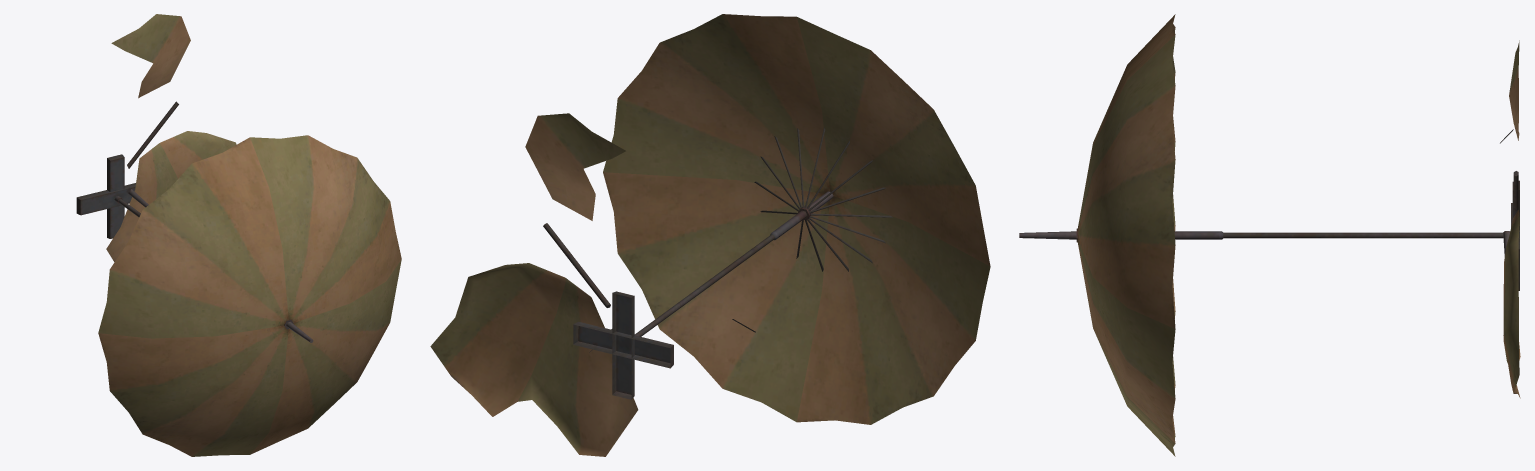
The model's file is hd_env052_TradeShelves_umbrella.glb.
3 views of the same model, side by side, from view 1: azimuth 30°, elevation 25°; view 2: azimuth 150°, elevation 25°; view 3: azimuth 270°, elevation 25° (orthographic). The views are drawn at different scales.
Parts seen in each view (by area): view 1: set_0_group_1, set_0_group_0; view 2: set_0_group_1, set_0_group_0; view 3: set_0_group_1, set_0_group_0.
Boxes of the visible parts, x1,y1,x2,y2 form: set_0_group_1: (77,135,401,456); set_0_group_0: (76,14,236,261); set_0_group_1: (573,14,990,424); set_0_group_0: (430,113,755,456); set_0_group_1: (1019,14,1519,456); set_0_group_0: (1500,40,1520,398).
Size of the model in its own units: 2.83 by 2.95 by 3.2.
2 materials, 2 textured.
